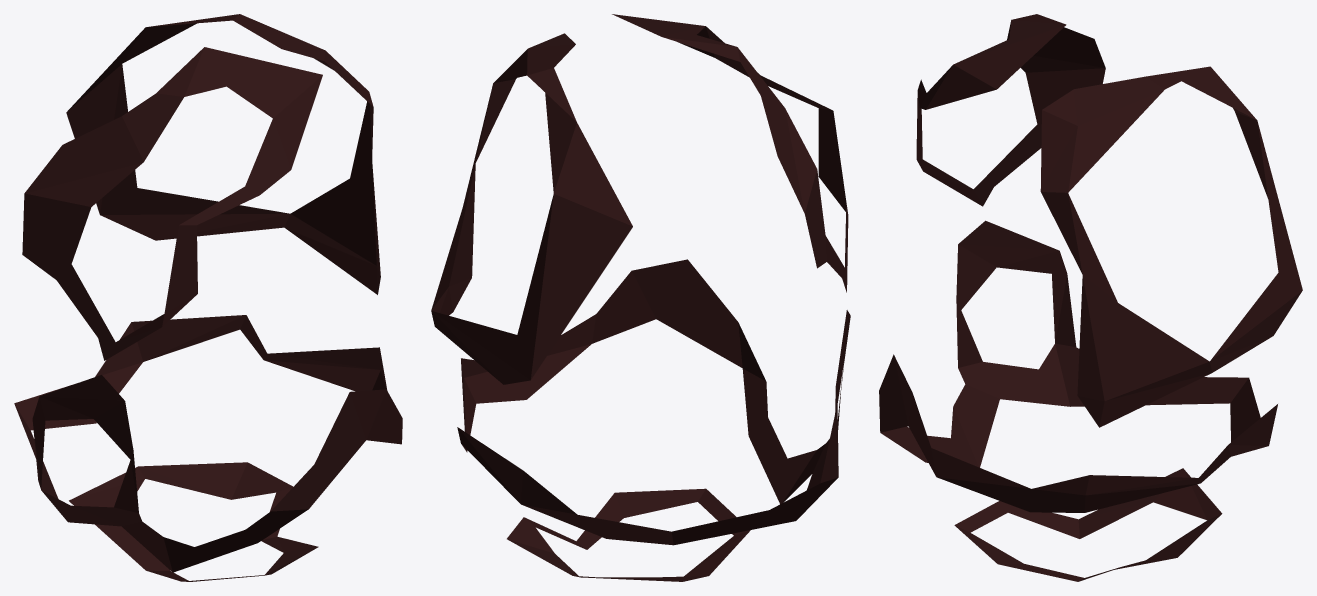
The model's file is Stone_Yellow_A_01_Light_01.FBX.
The picture shows the model from 3 angles, left to right: view 1: azimuth 30°, elevation 25°; view 2: azimuth 150°, elevation 25°; view 3: azimuth 270°, elevation 25°; orthographic projection.
Visible parts, largest first — view 1: Stone_Yellow_A_01_Light_01; view 2: Stone_Yellow_A_01_Light_01; view 3: Stone_Yellow_A_01_Light_01.
Part boxes in pixels (x1,y1,x2,y2): Stone_Yellow_A_01_Light_01: (14,14,402,581); Stone_Yellow_A_01_Light_01: (431,14,850,581); Stone_Yellow_A_01_Light_01: (879,14,1302,581).
Size of the model in its own units: 2.14 by 2.94 by 2.14.
